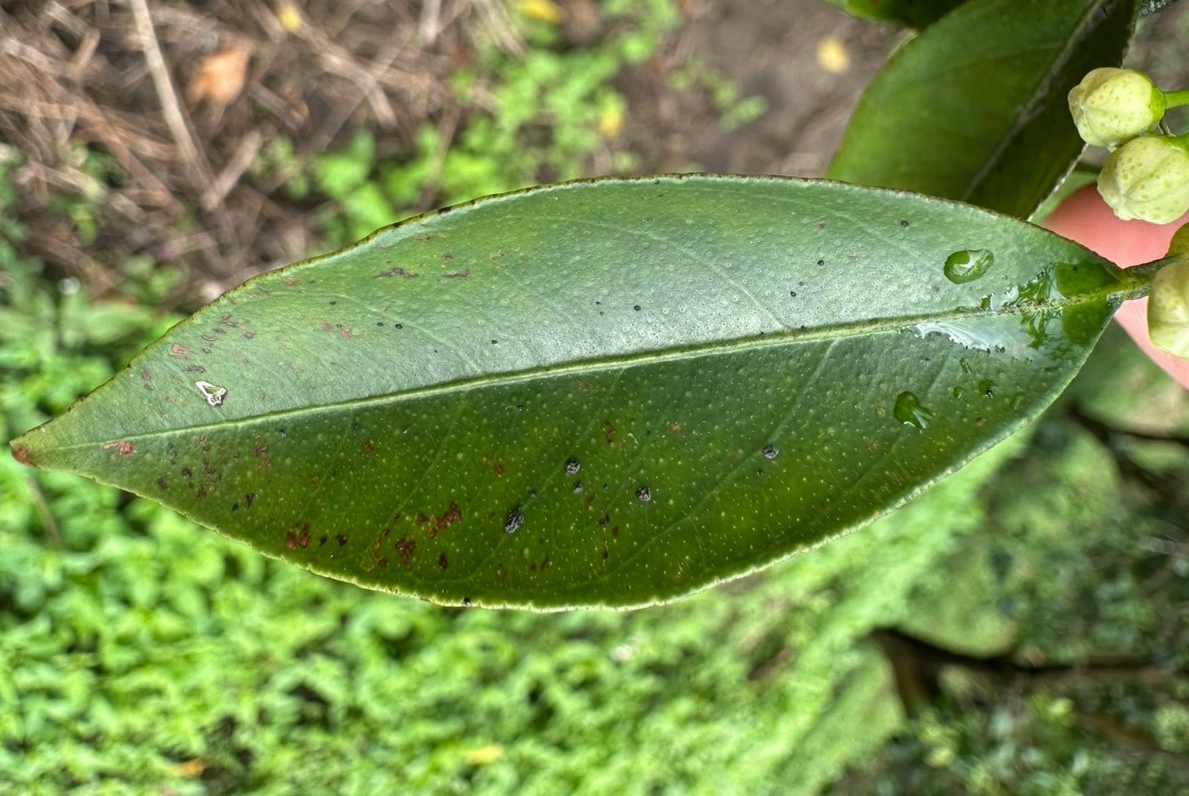Black_Spot: (13, 176, 1147, 608)
